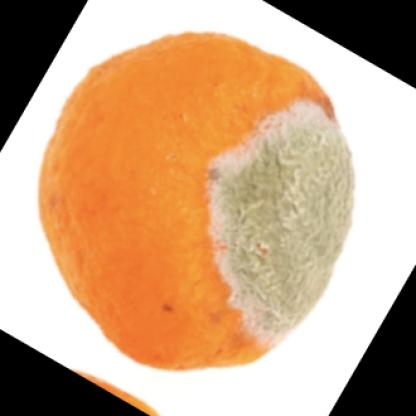rotten: (37, 34, 352, 372)
